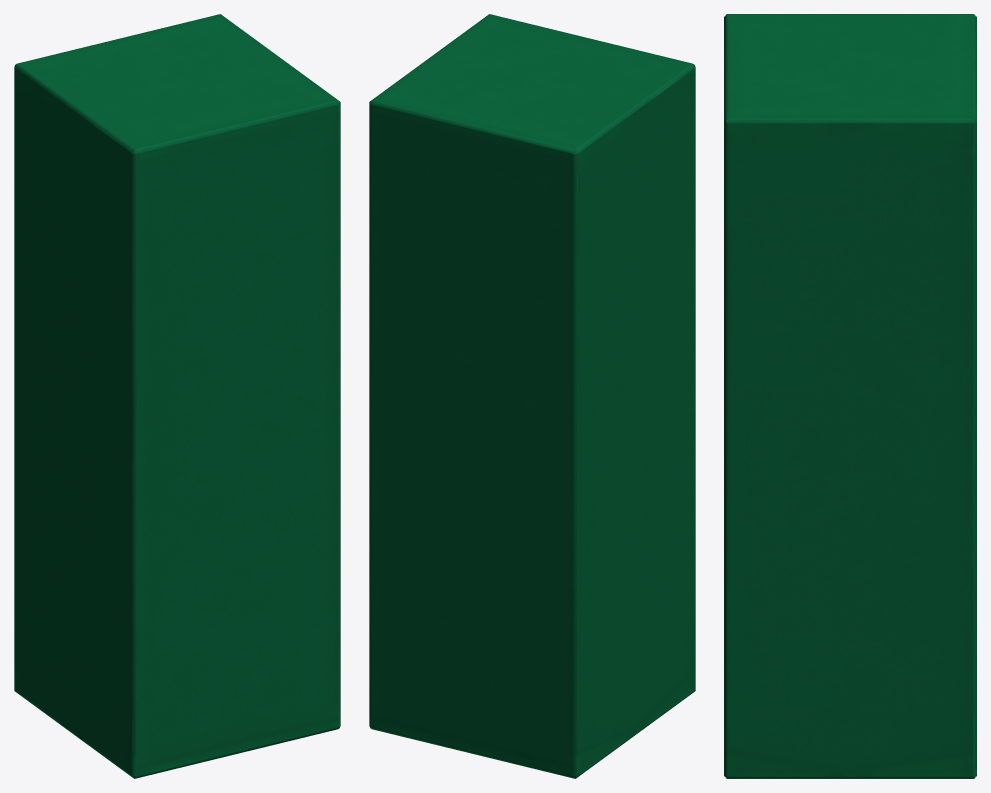
File: Meshy_AI_A_single_solid_color_0426211106_texture.fbx
3 renders of one model, left to right at view 1: azimuth 30°, elevation 25°; view 2: azimuth 150°, elevation 25°; view 3: azimuth 270°, elevation 25°, orthographic. The views are drawn at different scales.
Visible parts, largest first — view 1: Mesh_0; view 2: Mesh_0; view 3: Mesh_0.
Boxes of the visible parts, <box> form: Mesh_0: <box>14,14,340,778</box>; Mesh_0: <box>369,14,695,778</box>; Mesh_0: <box>724,14,976,778</box>.
Size of the model in its own units: 66.14 by 191 by 66.14.
Materials: 1 (1 with a texture image).
